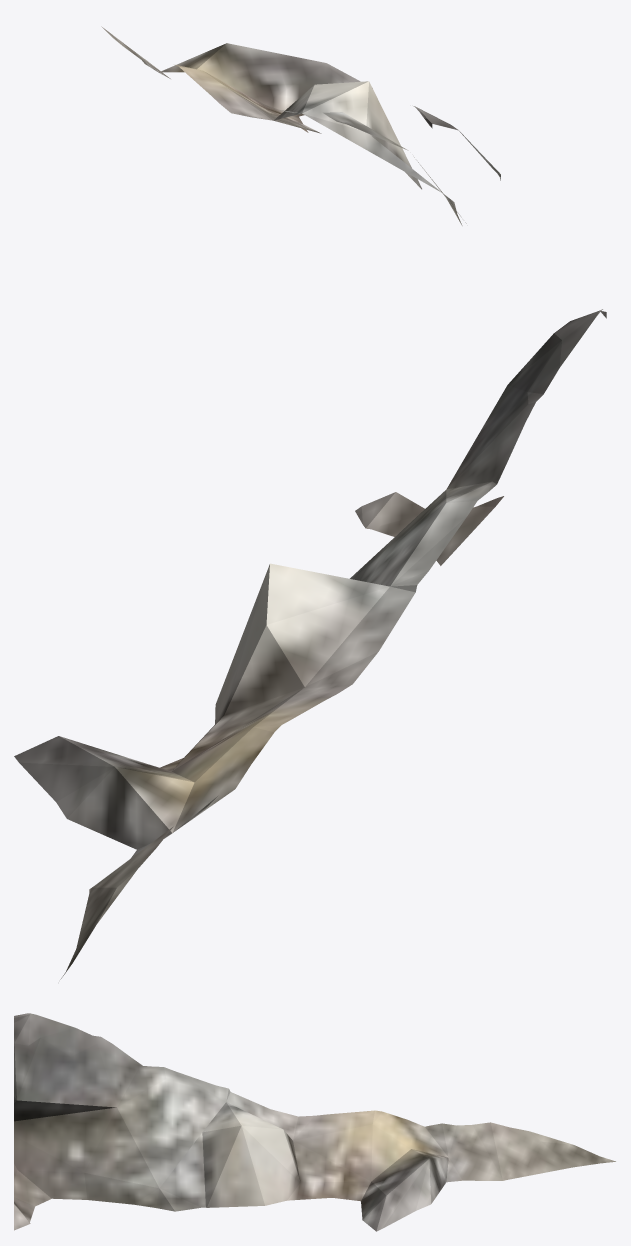
3 renders of one model, top to bottom at view 1: azimuth 30°, elevation 25°; view 2: azimuth 150°, elevation 25°; view 3: azimuth 270°, elevation 25°, orthographic. The views are drawn at different scales.
Size of the model in its own units: 0.6936 by 0.6863 by 2.53.
Materials: 1 (1 with a texture image).
